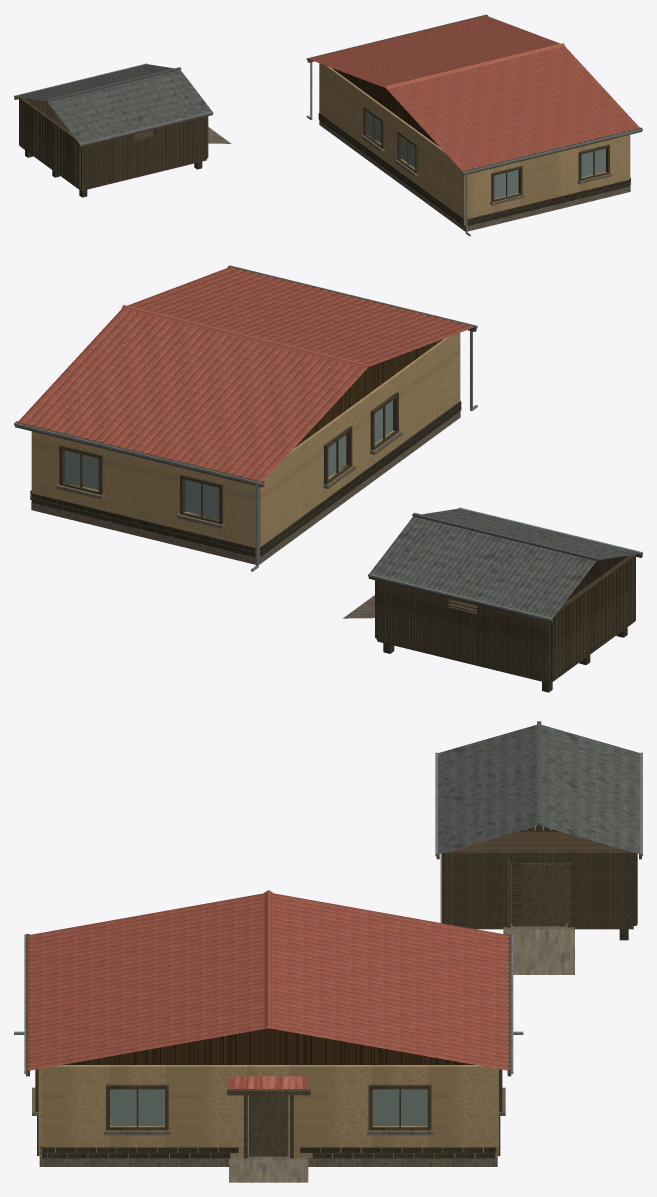
3 views of the same model, one above another, from view 1: azimuth 30°, elevation 25°; view 2: azimuth 150°, elevation 25°; view 3: azimuth 270°, elevation 25° (orthographic). The views are drawn at different scales.
Parts seen in each view (by area): view 1: H18_TELHAS, H18_PAIOL_COBERTURA, H18_FUNDOS, H18_LATERAIS, H18_PAIOL_LATERAL, H18_PAIOL_MATA_JUNTAS, H18_PAIOL_FUNDOS, H18_EMBASAMENTO_PEDRA, H18_FUNDACAO, H18_VIDROS_RECUADOS, H18_CAIXILHOS, H18_OITOES (+9 smaller); view 2: H18_TELHAS, H18_PAIOL_COBERTURA, H18_FUNDOS, H18_LATERAIS, H18_PAIOL_LATERAL, H18_PAIOL_MATA_JUNTAS, H18_PAIOL_FUNDOS, H18_EMBASAMENTO_PEDRA, H18_FUNDACAO, H18_VIDROS_RECUADOS, H18_CAIXILHOS, H18_OITOES (+8 smaller); view 3: H18_TELHAS, H18_FACHADA, H18_PAIOL_COBERTURA, H18_PAIOL_FRENTE, H18_OITOES, H18_EMBASAMENTO_PEDRA, H18_VIDROS_RECUADOS, H18_FUNDACAO, H18_PAIOL_ASSOALHO, H18_PAIOL_PORTA_FOLHA, H18_PAIOL_RAMPA, H18_PAIOL_MATA_JUNTAS (+9 smaller).
Part boxes in pixels (box(x1,y1,x2,y2)): H18_TELHAS: box(310, 15, 639, 170); H18_PAIOL_COBERTURA: box(15, 64, 211, 143); H18_FUNDOS: box(319, 63, 465, 225); H18_LATERAIS: box(467, 135, 629, 218); H18_PAIOL_LATERAL: box(24, 98, 207, 189); H18_PAIOL_MATA_JUNTAS: box(19, 98, 205, 189); H18_PAIOL_FUNDOS: box(19, 97, 80, 189); H18_EMBASAMENTO_PEDRA: box(318, 113, 630, 225); H18_FUNDACAO: box(319, 120, 630, 231); H18_VIDROS_RECUADOS: box(368, 112, 605, 198); H18_CAIXILHOS: box(363, 106, 609, 202); H18_OITOES: box(332, 68, 439, 146); H18_TELHAS: box(18, 267, 473, 481); H18_PAIOL_COBERTURA: box(369, 508, 640, 618); H18_FUNDOS: box(258, 333, 460, 556); H18_LATERAIS: box(32, 431, 255, 547); H18_PAIOL_LATERAL: box(376, 555, 628, 681); H18_PAIOL_MATA_JUNTAS: box(378, 556, 635, 681); H18_PAIOL_FUNDOS: box(550, 554, 635, 681); H18_EMBASAMENTO_PEDRA: box(30, 401, 461, 556); H18_FUNDACAO: box(31, 411, 460, 564); H18_VIDROS_RECUADOS: box(65, 400, 392, 519); H18_CAIXILHOS: box(59, 392, 398, 524); H18_OITOES: box(294, 339, 442, 447); H18_TELHAS: box(28, 893, 509, 1070); H18_FACHADA: box(42, 1065, 495, 1157); H18_PAIOL_COBERTURA: box(438, 725, 640, 854); H18_PAIOL_FRENTE: box(445, 850, 633, 927); H18_OITOES: box(63, 1028, 474, 1064); H18_EMBASAMENTO_PEDRA: box(37, 1116, 500, 1158); H18_VIDROS_RECUADOS: box(110, 1089, 427, 1125); H18_FUNDACAO: box(39, 1089, 497, 1166); H18_PAIOL_ASSOALHO: box(452, 830, 633, 929); H18_PAIOL_PORTA_FOLHA: box(512, 863, 566, 926); H18_PAIOL_RAMPA: box(503, 929, 574, 974); H18_PAIOL_MATA_JUNTAS: box(440, 853, 637, 927).
Bounding box in the file's own units: 21.31 × 4.28 × 16.67.
Materials: 12 (11 with a texture image).
